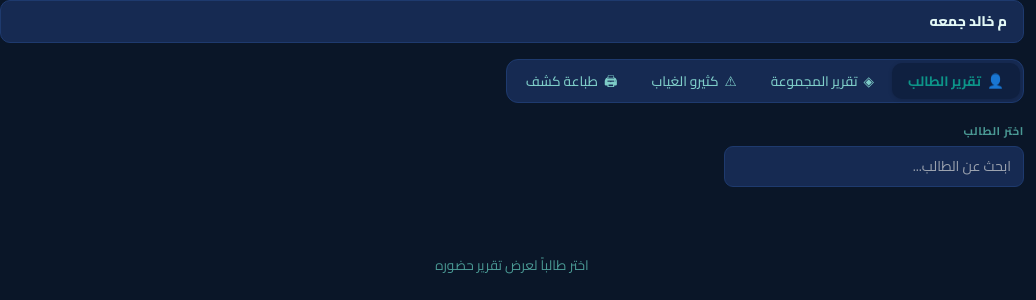
AttendanceReports — "طباعة كشف" tab is wired to the existing openGroupSessionReport builder › renders the group selector, and prompts for a group before showing session/print controls
Click the button "🖨 طباعة كشف" at (572, 81), box [510,63,634,99]
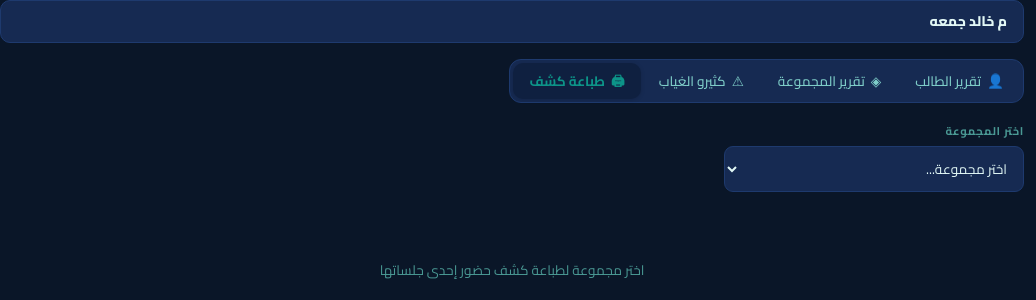
Now the text "اختر مجموعة لطباعة كشف حضور إحدى جلساتها" is shown, box [380,257,644,283]
